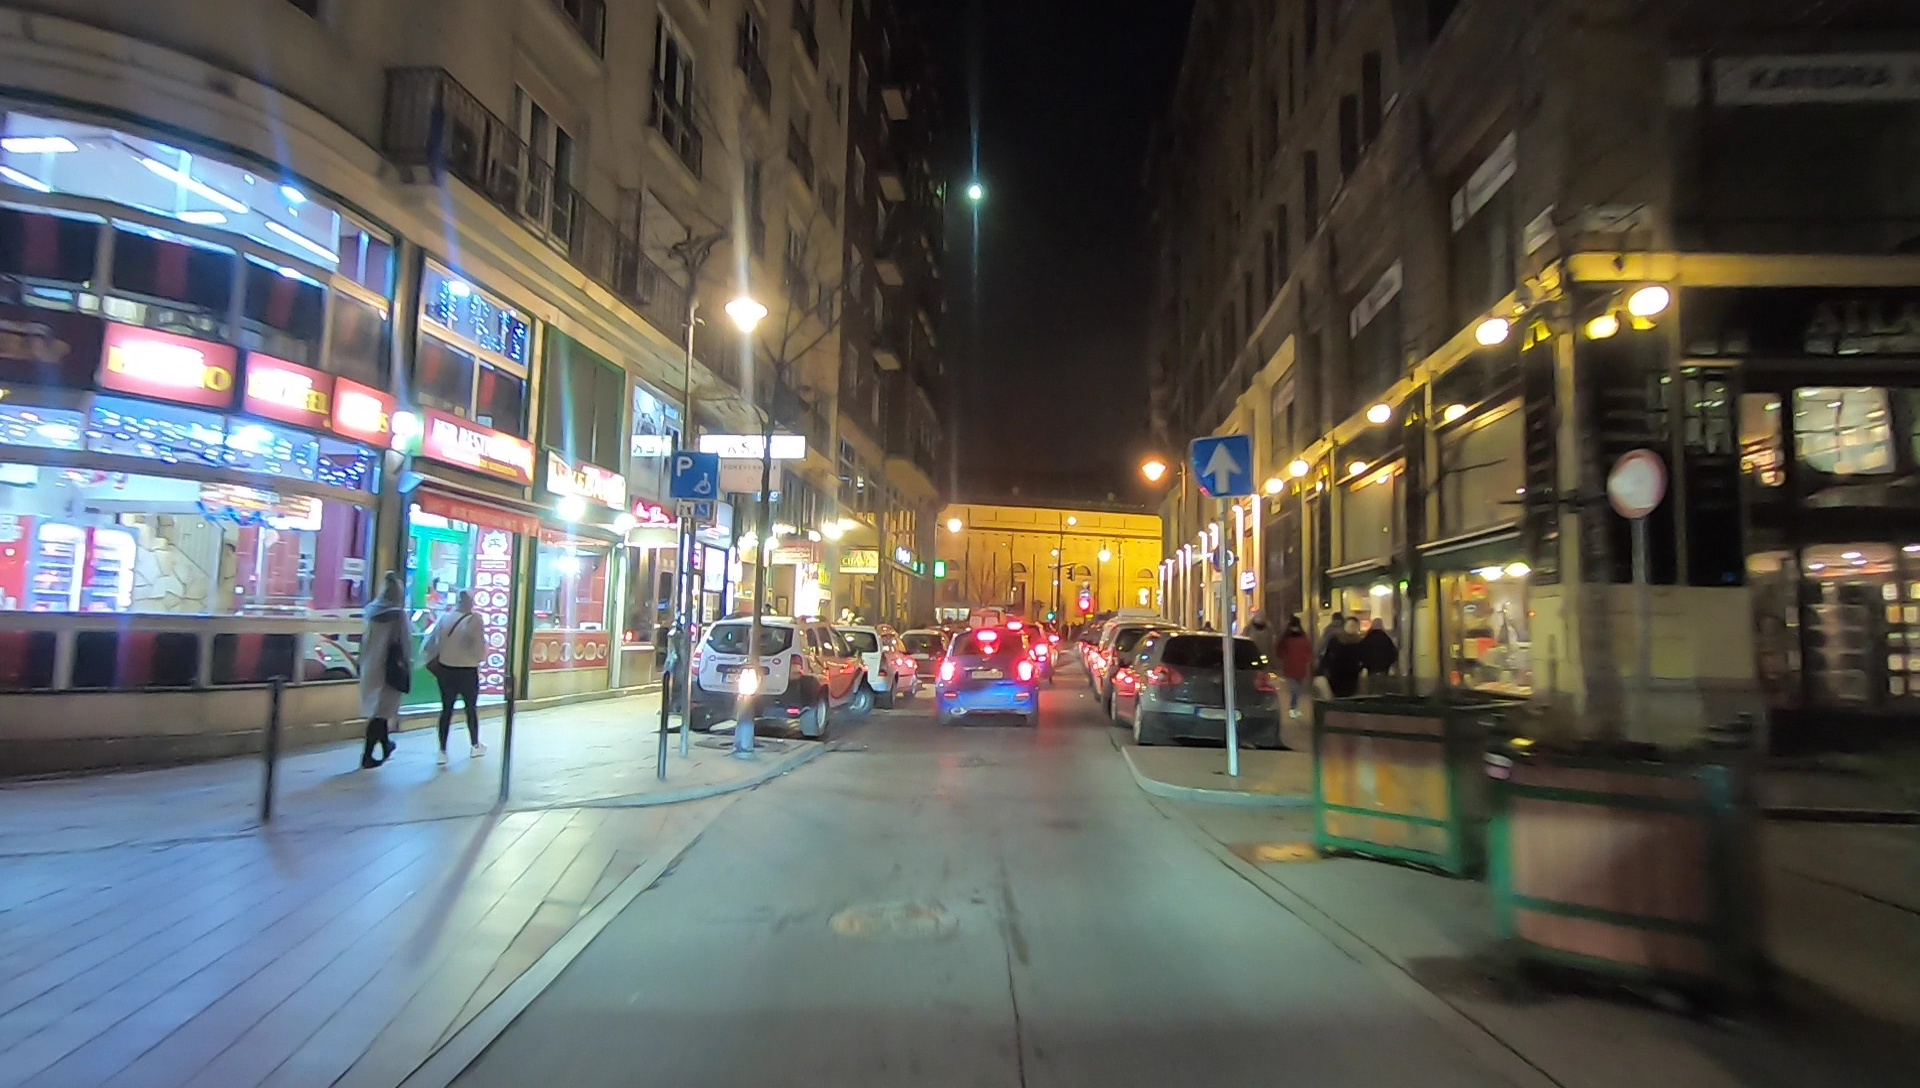person: (426, 587, 491, 763), (358, 569, 410, 773), (1321, 611, 1362, 728), (1278, 619, 1312, 724), (1364, 619, 1397, 706)
